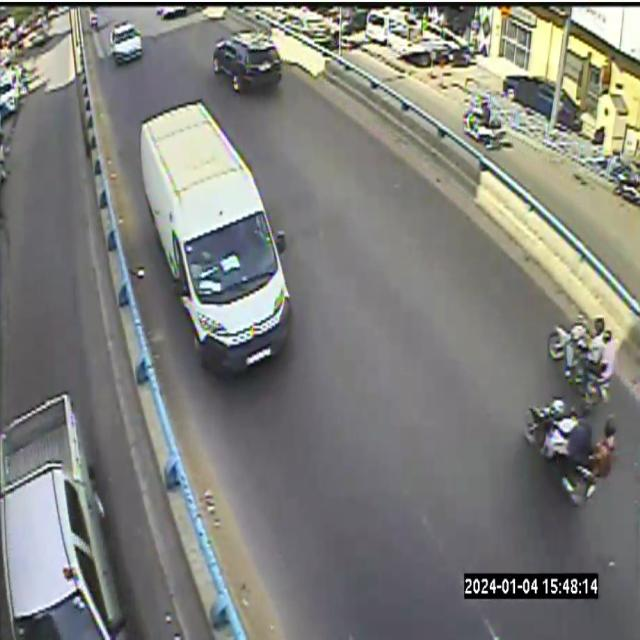car: (0, 84, 208, 639), (140, 101, 293, 381), (100, 18, 143, 70)
